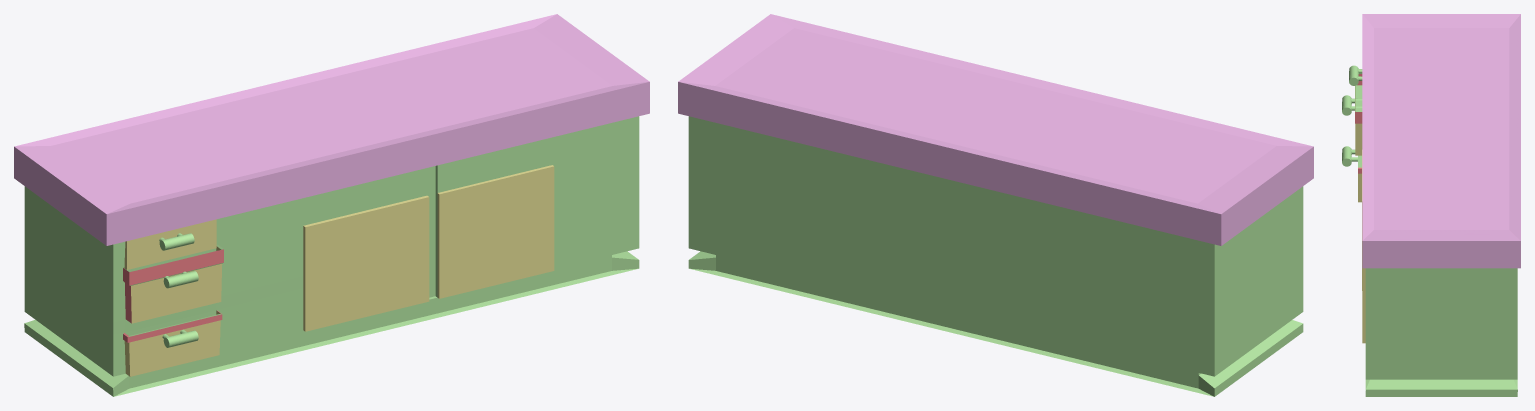
File: Counterfbx.fbx
The picture shows the model from 3 angles, left to right: view 1: azimuth 30°, elevation 25°; view 2: azimuth 150°, elevation 25°; view 3: azimuth 270°, elevation 25°; orthographic projection. The views are drawn at different scales.
Visible parts, largest first — view 1: Cube.025; view 2: Cube.025; view 3: Cube.025.
Boxes of the visible parts, x1,y1,x2,y2 form: Cube.025: [14, 14, 649, 396]; Cube.025: [678, 14, 1313, 396]; Cube.025: [1342, 14, 1520, 396].
Size of the model in its own units: 3.63 by 1.19 by 1.21.
